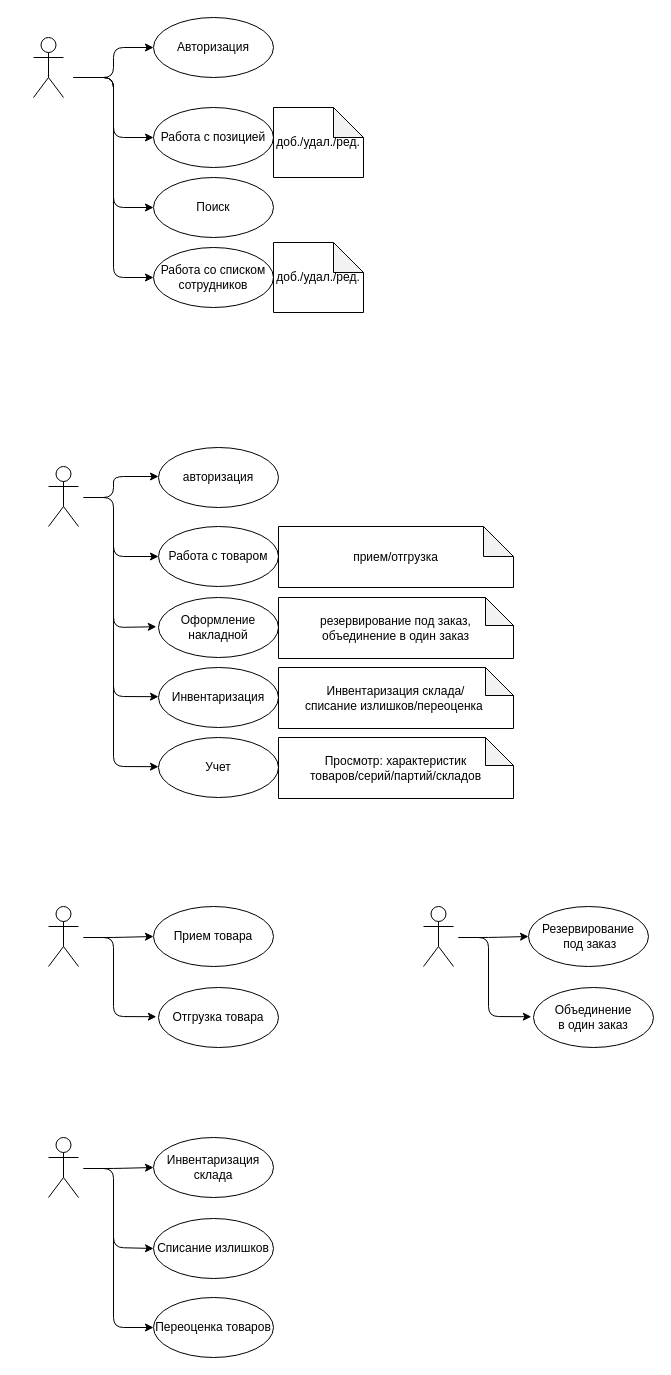
The diagram is 671 pixels wide and 1375 high, and some of its shapes have lost their labels. Here are the shapes that lost their labels. From the top down, the box of each, then its label:
(32, 36, 64, 98): Admin DB
(48, 466, 78, 526): User
(48, 906, 78, 966): User Работа с товаром
(422, 906, 454, 966): User Оформление накладной
(48, 1136, 78, 1198): User Инвентаризация
